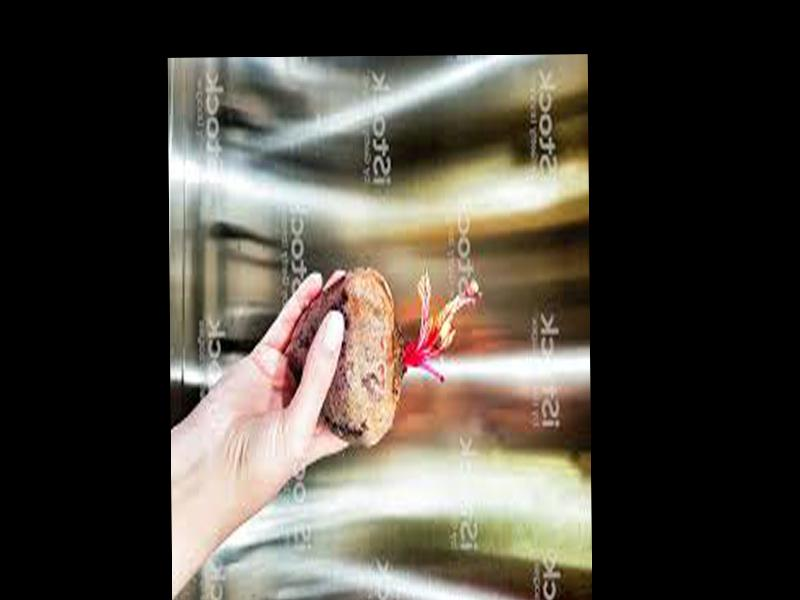Beet: (286, 266, 477, 444)
